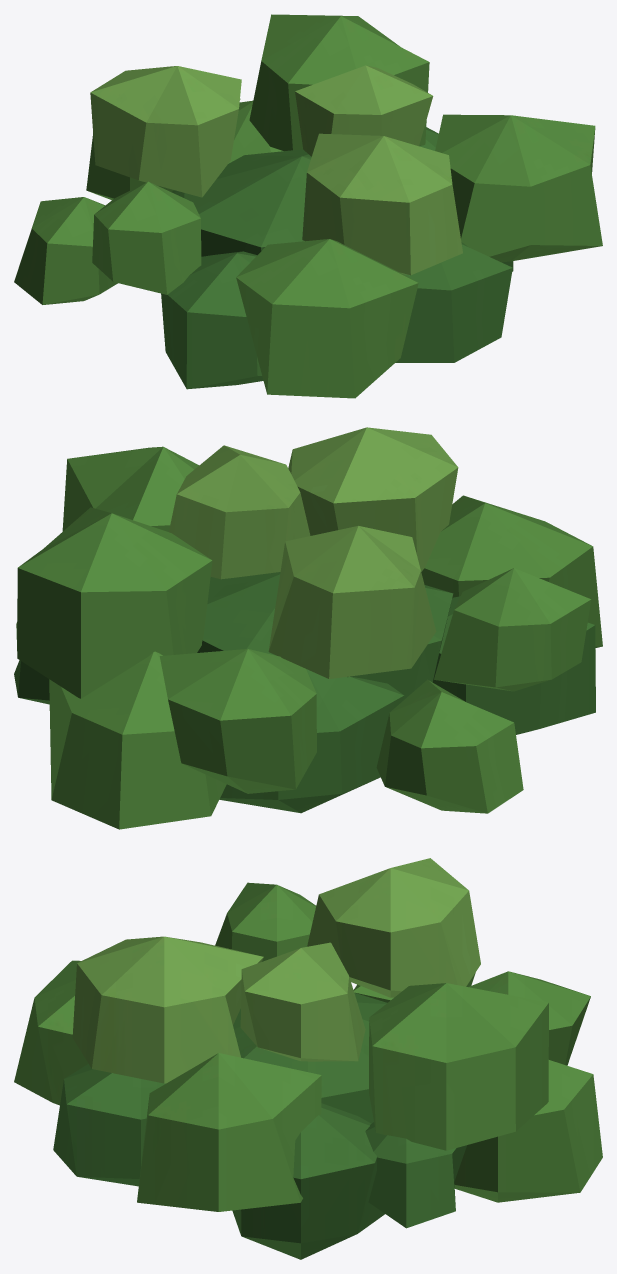
File: bush_01.glb
3 renders of one model, top to bottom at view 1: azimuth 30°, elevation 25°; view 2: azimuth 150°, elevation 25°; view 3: azimuth 270°, elevation 25°, orthographic. The views are drawn at different scales.
Parts seen in each view (by area): view 1: bush_01; view 2: bush_01; view 3: bush_01.
Boxes of the visible parts, bbox=[...] form: bush_01: bbox=[14, 14, 602, 398]; bush_01: bbox=[14, 427, 602, 829]; bush_01: bbox=[14, 858, 602, 1259].
Size of the model in its own units: 2.28 by 1.19 by 2.3.
3 materials, 3 textured.
